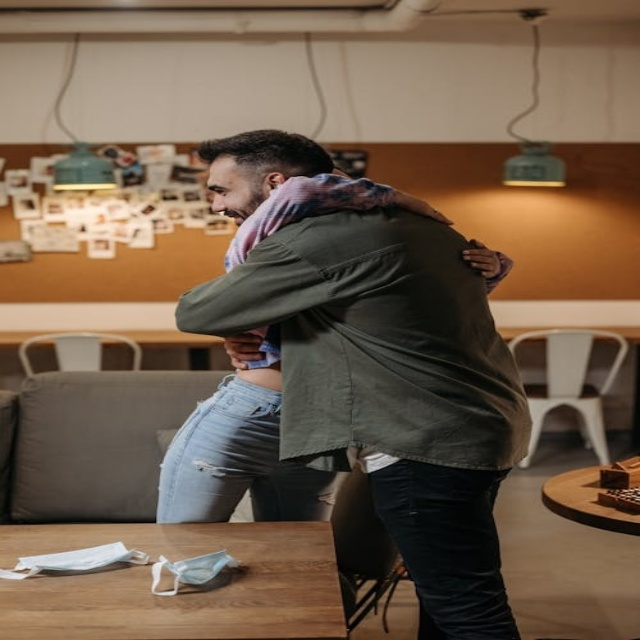Sin_gafas: (206, 174, 244, 198)
Sin_guantes: (224, 330, 273, 369), (460, 238, 503, 281)
Sin_mascara: (214, 205, 251, 226)
